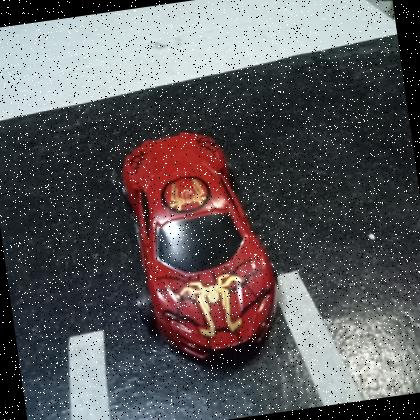Car: (122, 133, 278, 364)
